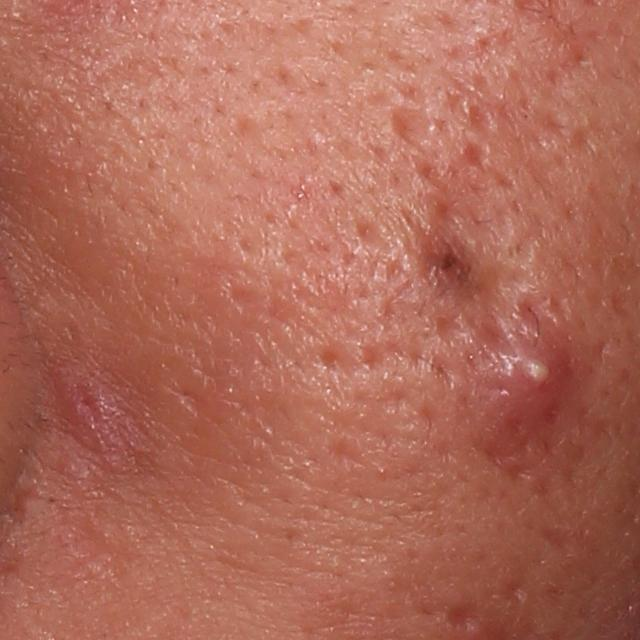atrophic_scar: (398, 162, 516, 314), (388, 105, 442, 166), (322, 432, 375, 475), (526, 521, 583, 559), (352, 217, 396, 259), (304, 345, 356, 380), (442, 599, 483, 634), (432, 313, 467, 348), (499, 575, 529, 605)
pustule: (463, 331, 567, 445)
